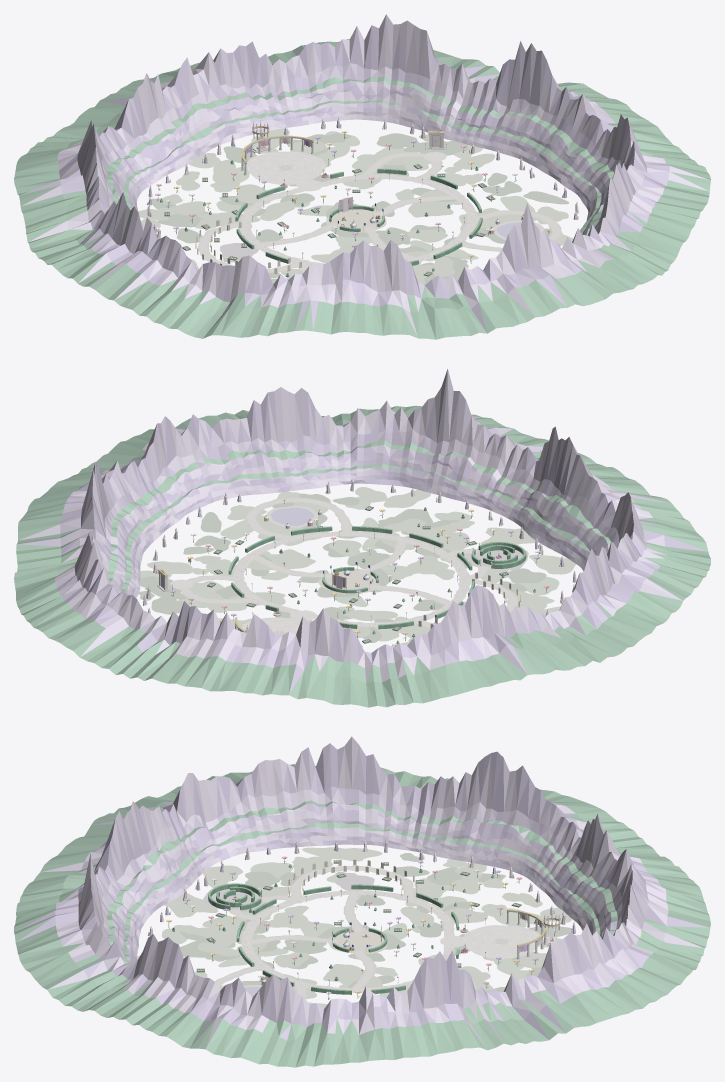
File: map_rift_garden.glb
The picture shows the model from 3 angles, top to bottom: view 1: azimuth 30°, elevation 25°; view 2: azimuth 150°, elevation 25°; view 3: azimuth 270°, elevation 25°; orthographic projection.
Parts seen in each view (by area): view 1: Z_rift_garden_penhascos, Z_rift_garden_estrada_anel, Z_rift_garden_praca_pavilhao, Z_rift_garden_det_chao_-1_-3, Z_rift_garden_det_chao_0_1, Z_rift_garden_det_chao_1_-2, Z_rift_garden_det_chao_2_0, Z_rift_garden_det_chao_-2_-2, Z_rift_garden_det_chao_0_-3, Z_rift_garden_det_chao_1_-1, Z_rift_garden_det_chao_-3_-2, Z_rift_garden_det_chao_-2_-1 (+16 smaller); view 2: Z_rift_garden_penhascos, Z_rift_garden_estrada_anel, Z_rift_garden_det_chao_0_1, Z_rift_garden_det_chao_-3_1, Z_rift_garden_det_chao_0_2, Z_rift_garden_det_chao_-1_0, Z_rift_garden_det_chao_1_-2, Z_rift_garden_det_chao_1_-1, Z_rift_garden_det_chao_-1_1, Z_rift_garden_det_chao_2_0, Z_rift_garden_det_chao_2_1, Z_rift_garden_det_chao_0_0 (+15 smaller); view 3: Z_rift_garden_penhascos, Z_rift_garden_estrada_anel, Z_rift_garden_det_chao_-3_0, Z_rift_garden_praca_pavilhao, Z_rift_garden_det_chao_0_1, Z_rift_garden_det_chao_-3_1, Z_rift_garden_det_chao_-1_-3, Z_rift_garden_det_chao_-1_1, Z_rift_garden_det_chao_-1_0, Z_rift_garden_det_chao_-2_-2, Z_rift_garden_det_chao_-3_-2, Z_rift_garden_det_obj_-2_1 (+12 smaller).
Part boxes in pixels (x1,y1,x2,y2): Z_rift_garden_penhascos: (14, 14, 710, 339); Z_rift_garden_estrada_anel: (240, 174, 477, 265); Z_rift_garden_praca_pavilhao: (246, 151, 325, 184); Z_rift_garden_det_chao_-1_-3: (188, 146, 286, 189); Z_rift_garden_det_chao_0_1: (239, 173, 478, 273); Z_rift_garden_det_chao_1_-2: (352, 147, 430, 177); Z_rift_garden_det_chao_2_0: (482, 181, 568, 212); Z_rift_garden_det_chao_-2_-2: (162, 182, 258, 215); Z_rift_garden_det_chao_0_-3: (257, 134, 350, 169); Z_rift_garden_det_chao_1_-1: (375, 161, 465, 215); Z_rift_garden_det_chao_-3_-2: (138, 198, 208, 227); Z_rift_garden_det_chao_-2_-1: (195, 208, 283, 242); Z_rift_garden_penhascos: (14, 369, 710, 707); Z_rift_garden_estrada_anel: (233, 532, 469, 626); Z_rift_garden_det_chao_0_1: (232, 517, 470, 627); Z_rift_garden_det_chao_-3_1: (508, 557, 576, 595); Z_rift_garden_det_chao_0_2: (378, 490, 432, 532); Z_rift_garden_det_chao_-1_0: (365, 553, 448, 592); Z_rift_garden_det_chao_1_-2: (179, 581, 254, 612); Z_rift_garden_det_chao_1_-1: (187, 554, 329, 590); Z_rift_garden_det_chao_-1_1: (359, 531, 472, 572); Z_rift_garden_det_chao_2_0: (194, 512, 253, 551); Z_rift_garden_det_chao_2_1: (227, 491, 352, 539); Z_rift_garden_det_chao_0_0: (322, 540, 380, 578); Z_rift_garden_penhascos: (14, 736, 710, 1067); Z_rift_garden_estrada_anel: (242, 890, 453, 992); Z_rift_garden_det_chao_-3_0: (279, 847, 415, 897); Z_rift_garden_praca_pavilhao: (462, 925, 540, 958); Z_rift_garden_det_chao_0_1: (205, 890, 454, 992); Z_rift_garden_det_chao_-3_1: (203, 862, 292, 888); Z_rift_garden_det_chao_-1_-3: (483, 907, 572, 942); Z_rift_garden_det_chao_-1_1: (202, 910, 332, 944); Z_rift_garden_det_chao_-1_0: (266, 912, 369, 947); Z_rift_garden_det_chao_-2_-2: (430, 876, 506, 912); Z_rift_garden_det_chao_-3_-2: (426, 859, 505, 890); Z_rift_garden_det_obj_-2_1: (217, 878, 289, 911).
Size of the model in its own units: 361 by 61.04 by 361.
